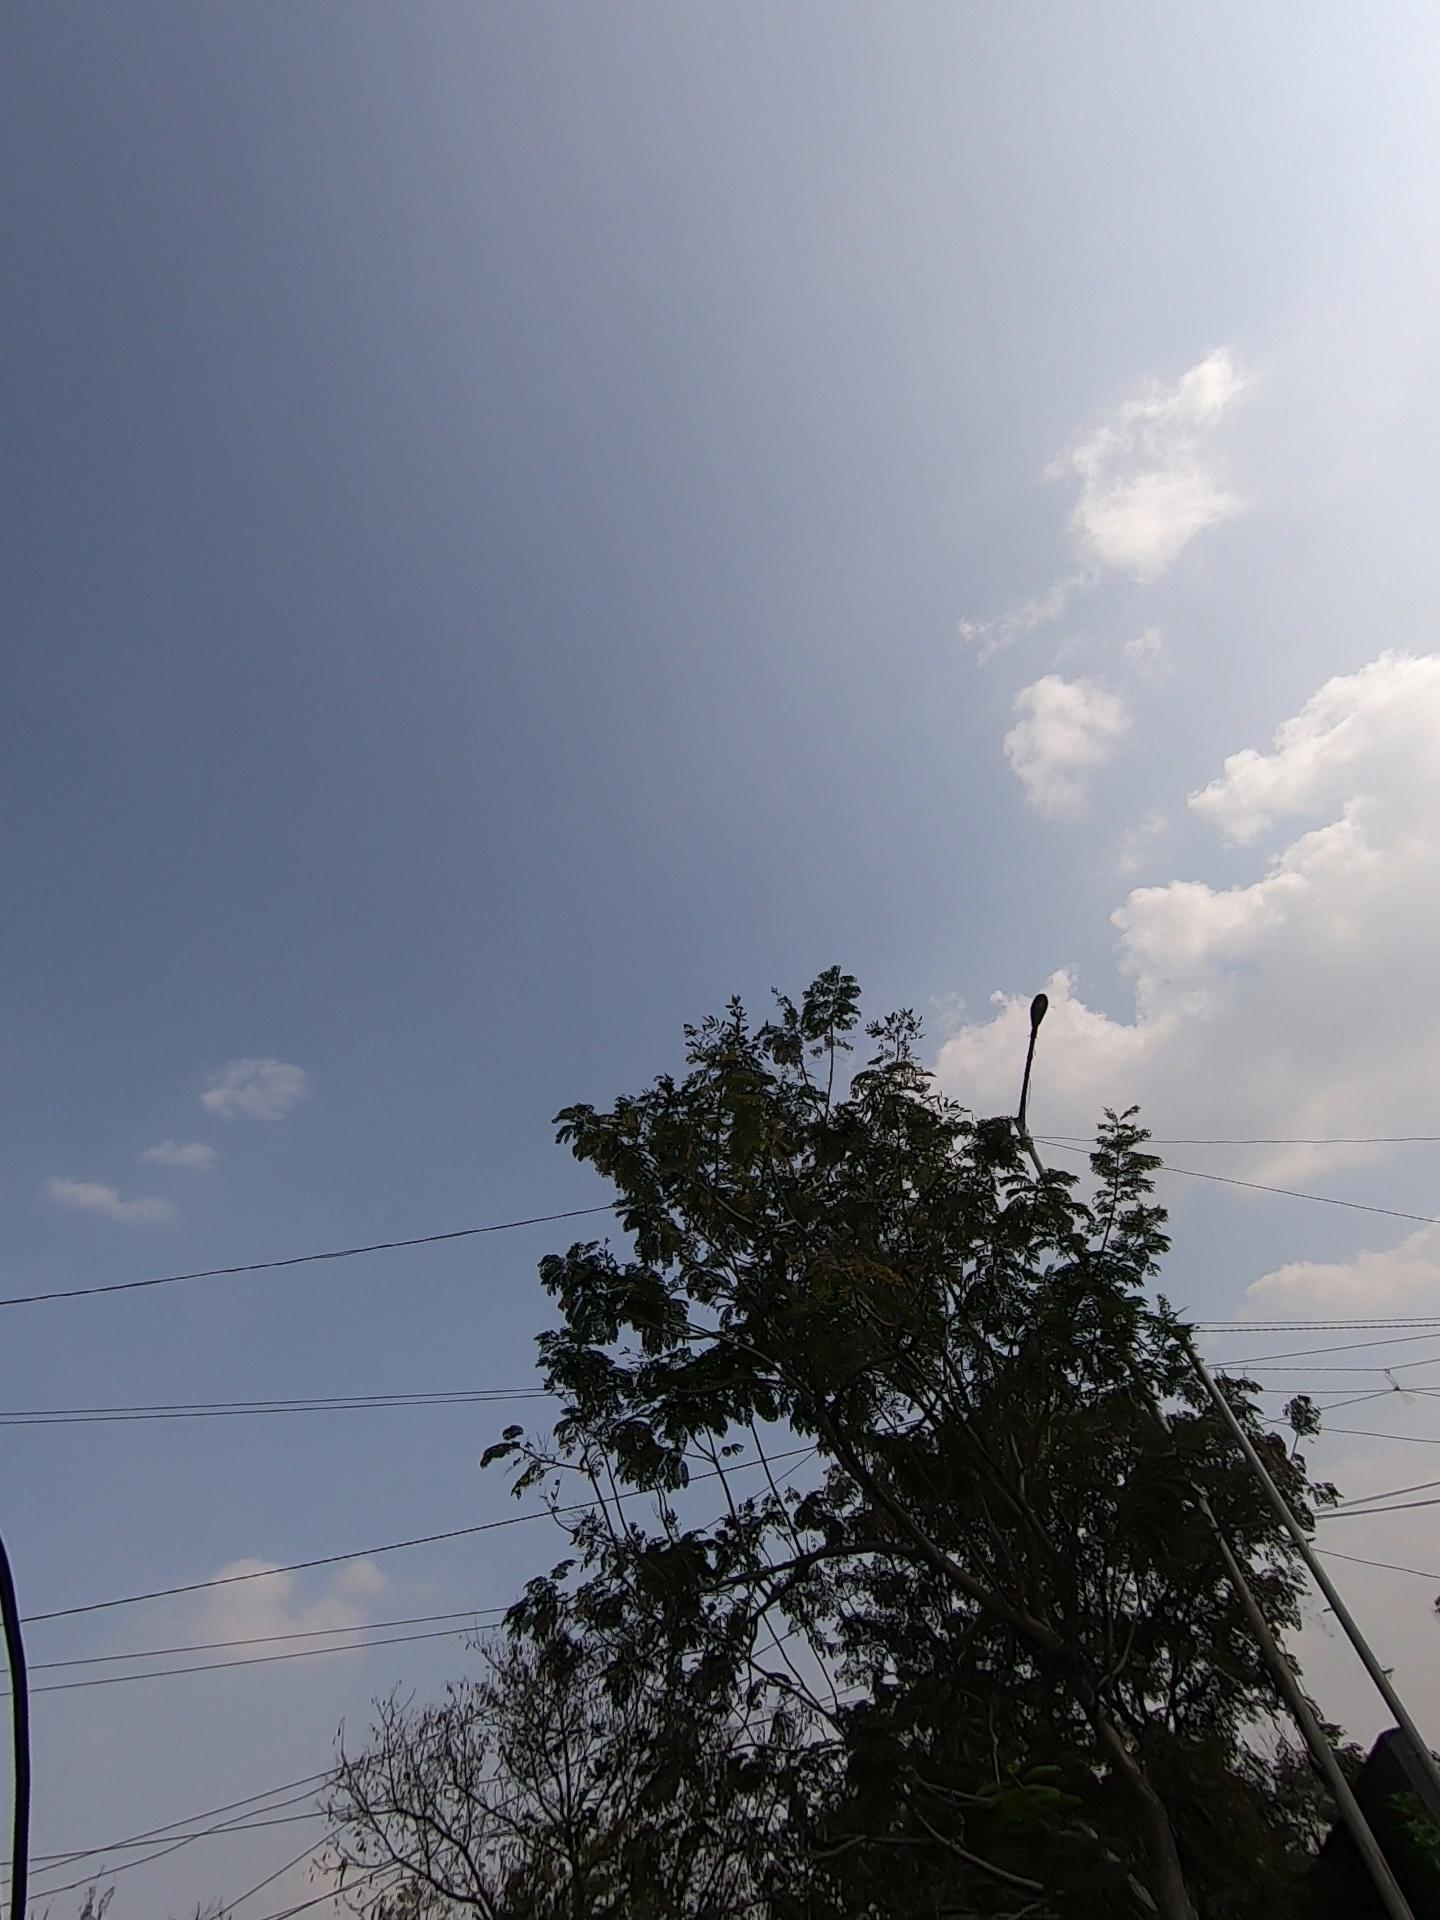off: (976, 951, 1151, 1247)
